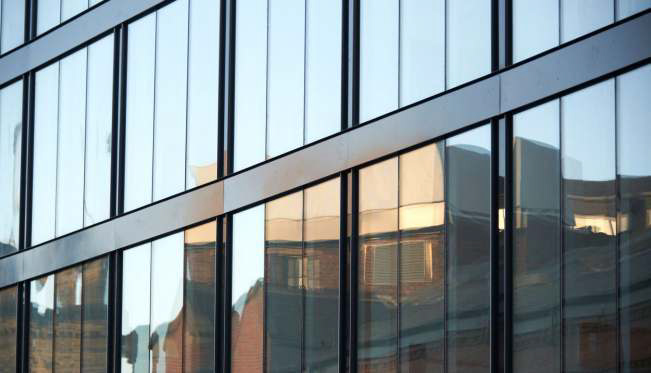glass_panel: (561, 80, 616, 371), (512, 100, 560, 372), (446, 125, 490, 372), (398, 143, 444, 371), (616, 65, 650, 372), (353, 158, 398, 372), (264, 192, 303, 372), (153, 0, 188, 200), (303, 179, 339, 371), (185, 0, 220, 187), (124, 13, 155, 210), (266, 0, 304, 157), (233, 0, 267, 170), (55, 49, 86, 235), (230, 205, 264, 372), (83, 36, 113, 225), (304, 0, 341, 142), (183, 222, 216, 372), (31, 63, 58, 243), (149, 232, 183, 372), (399, 0, 444, 105), (359, 0, 398, 121), (446, 0, 491, 87), (120, 243, 150, 372), (0, 82, 22, 255), (81, 258, 108, 372), (53, 266, 81, 371), (512, 0, 558, 61), (28, 275, 54, 372), (561, 0, 614, 41), (0, 287, 17, 371), (0, 0, 24, 52)
